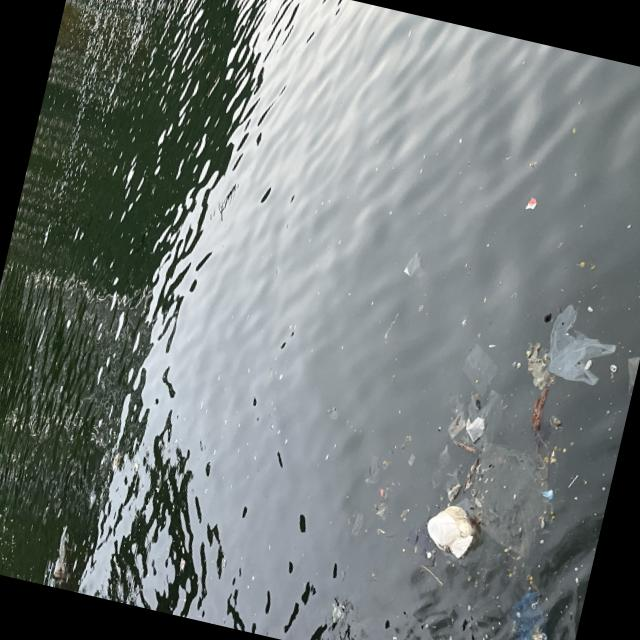foam: (421, 500, 479, 561)
plastic bag: (552, 297, 614, 387)
